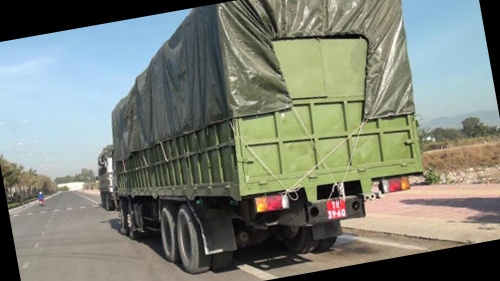plate: (322, 196, 348, 220)
